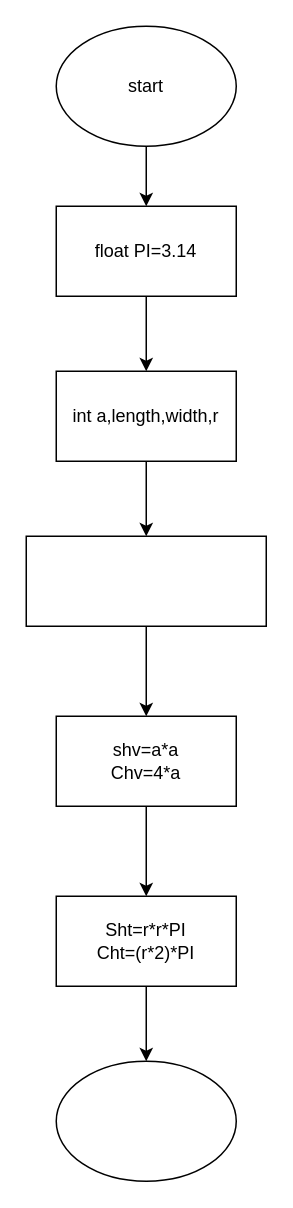
This 293x1208 diagram has some shape labels left out. The shapes that lost their labels are listed below. From the top down, each one's box as (x1, y1, x2, y2) in pixels, then its label:
(25, 535, 266, 626): Shcn=(length*width) Chcn=(length+width)*2
(55, 1060, 236, 1181): end
